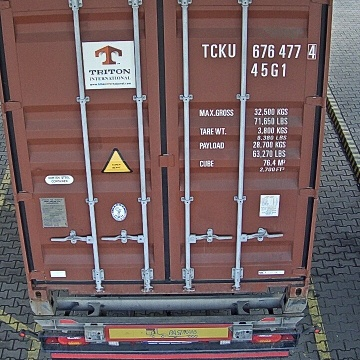serial_id: (202, 44, 316, 57)
